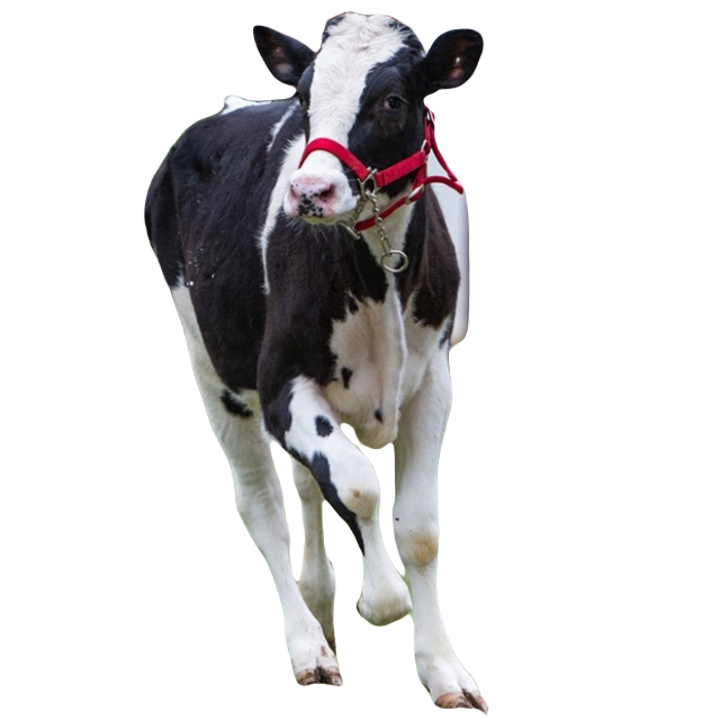Cow: (143, 14, 487, 715)
